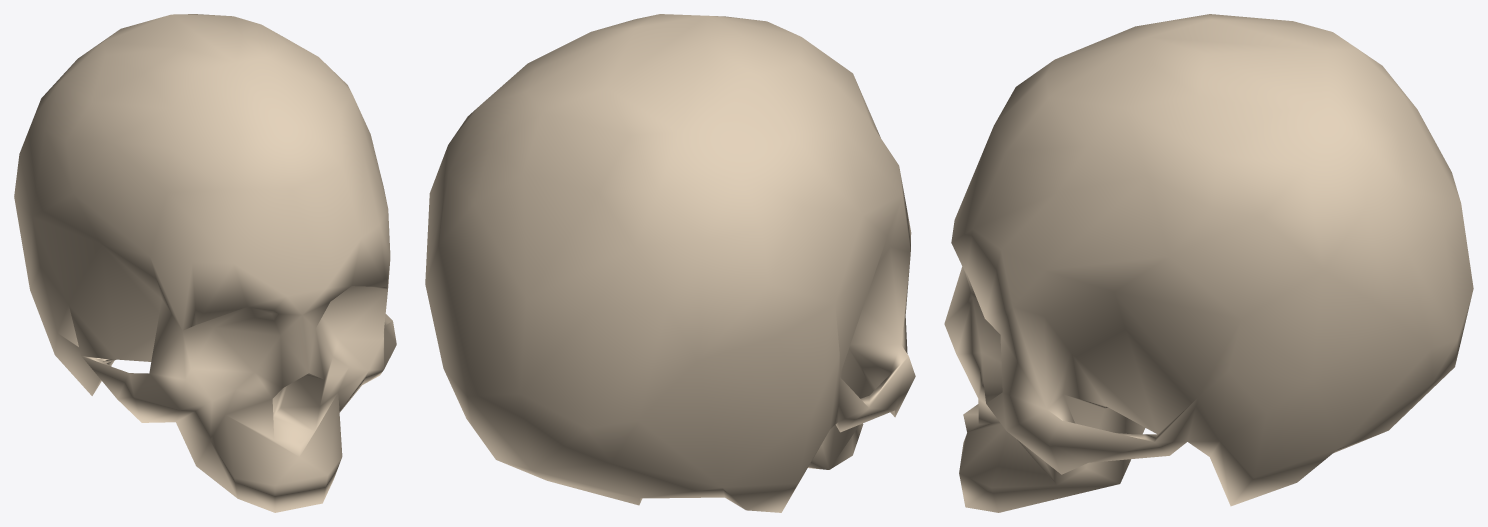
Rendered from skull.fbx.
3 renders of one model, left to right at view 1: azimuth 30°, elevation 25°; view 2: azimuth 150°, elevation 25°; view 3: azimuth 270°, elevation 25°, orthographic. The views are drawn at different scales.
Parts seen in each view (by area): view 1: polySurface12; view 2: polySurface12; view 3: polySurface12.
Boxes of the visible parts, x1=… form: polySurface12: x1=14, y1=14, x2=396, y2=512; polySurface12: x1=425, y1=14, x2=915, y2=512; polySurface12: x1=944, y1=14, x2=1473, y2=512.
Size of the model in its own units: 12.35 by 14.74 by 15.18.
